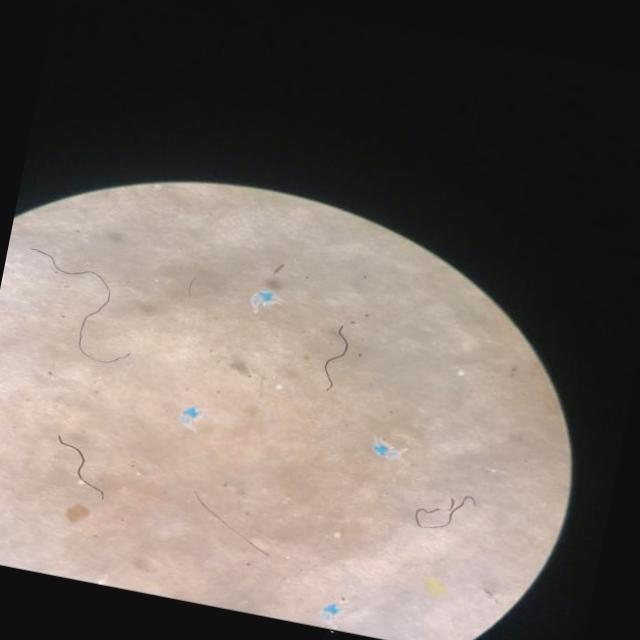fiber: (37, 251, 130, 364), (195, 492, 270, 556), (58, 435, 105, 500), (415, 495, 476, 528), (326, 325, 349, 391)
film: (251, 291, 285, 309), (323, 601, 348, 618), (378, 447, 409, 460), (183, 410, 202, 430)
fragment: (66, 505, 90, 522), (425, 577, 446, 596)
pellet: (458, 369, 466, 376), (334, 532, 342, 538), (276, 384, 283, 390)
